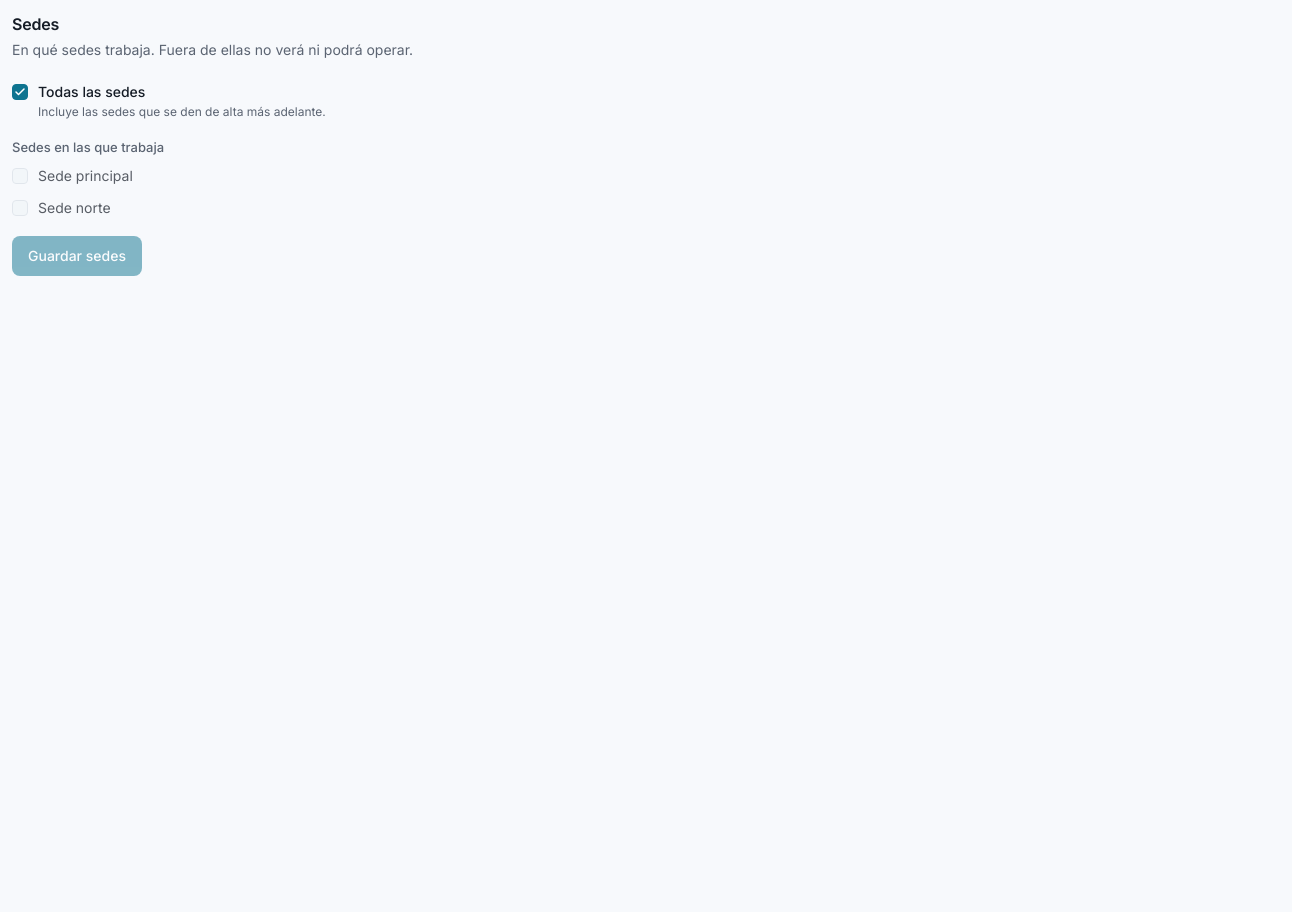
Scenario: StaffLocationsCard (DX-089) › al acotarlo a una sede guarda solo esa y avisa de cuándo se aplica
Step 1. Click the checkbox labelled "Todas las sedes" → (20,92), box [12,84,28,100]
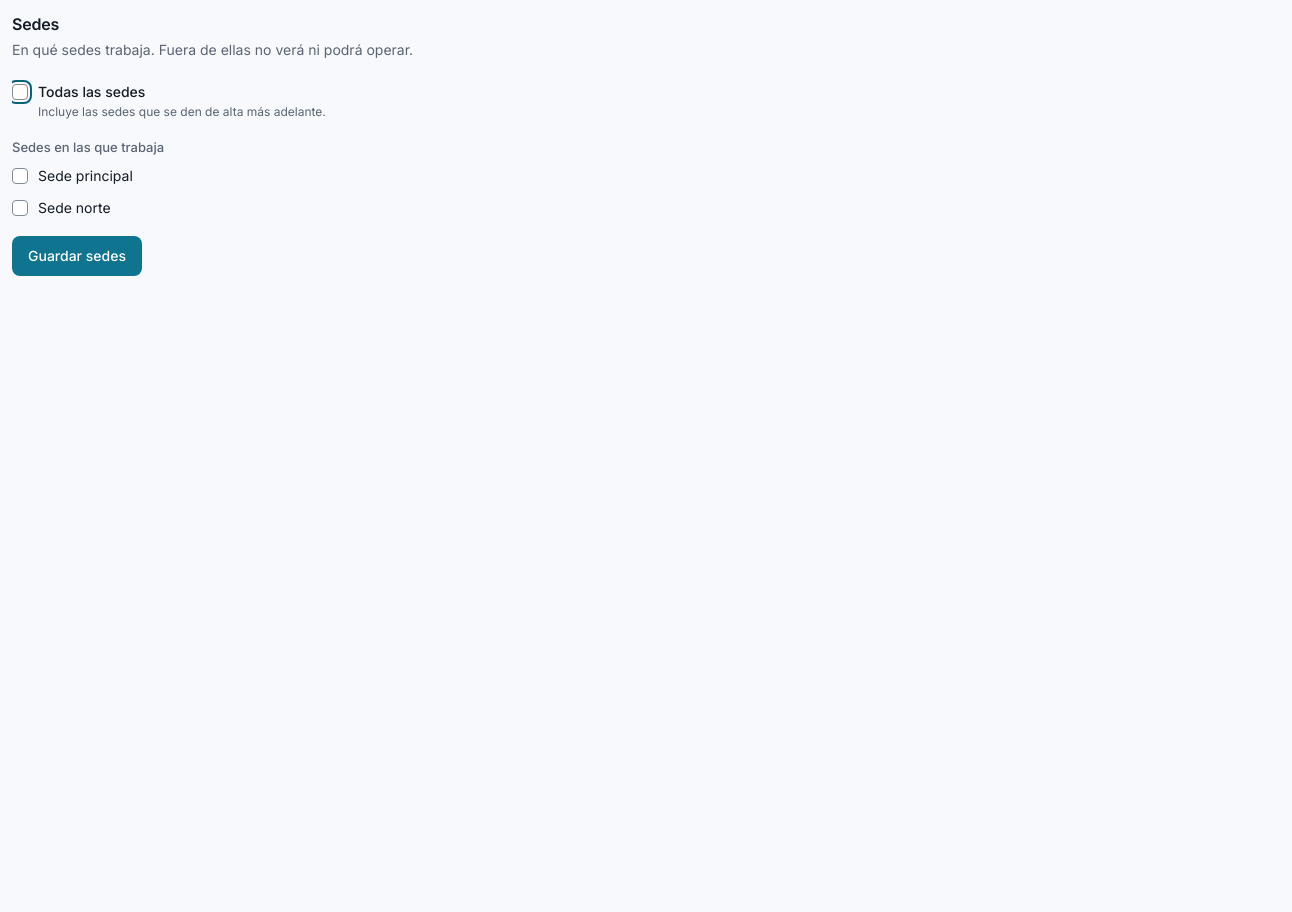
Check: the checkbox labelled "Sede norte" is enabled
Step 2. Click the checkbox labelled "Sede norte" → (20,208), box [12,200,28,216]
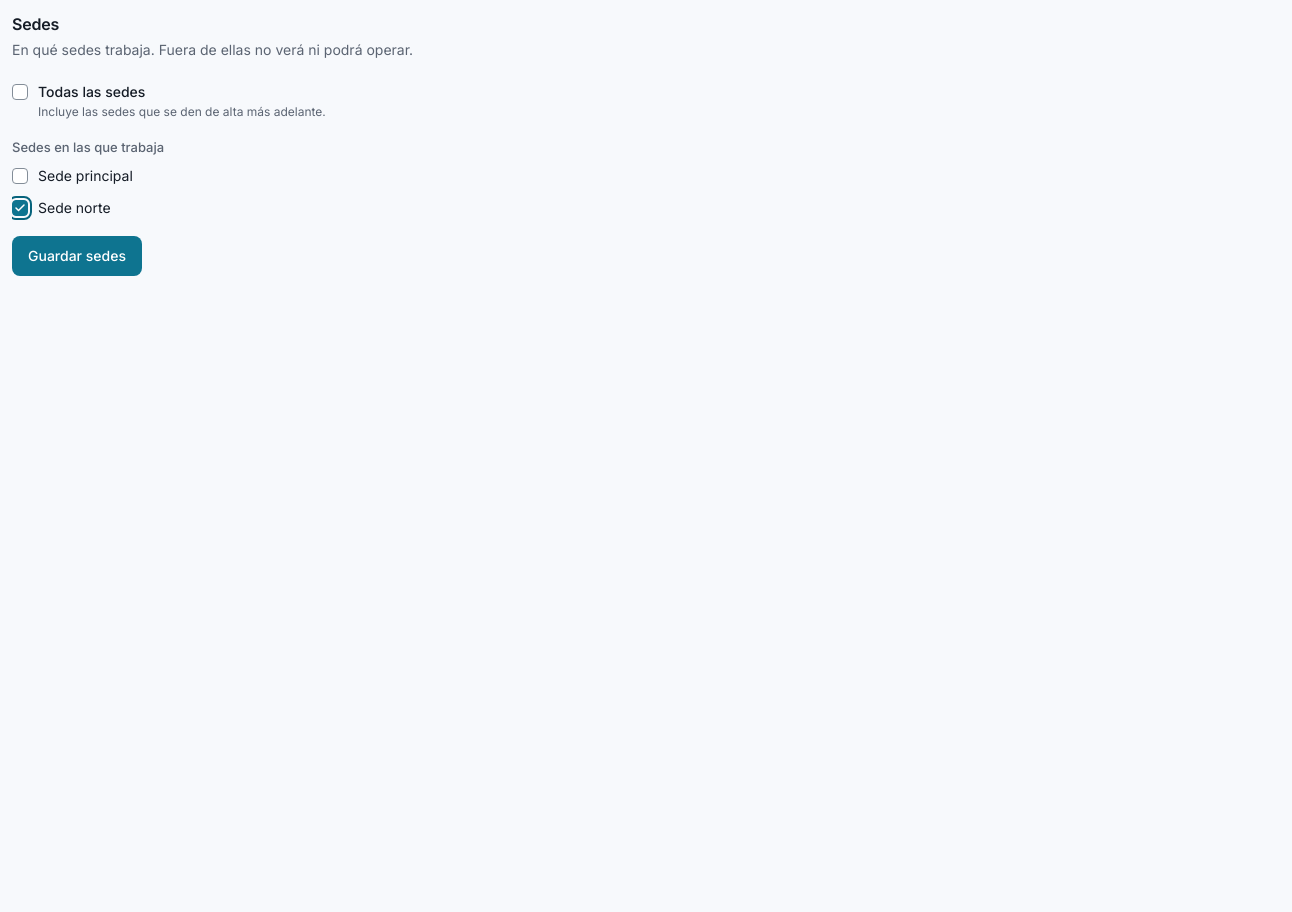
Step 3. Click the button "Guardar sedes" → (77,256), box [12,236,142,276]
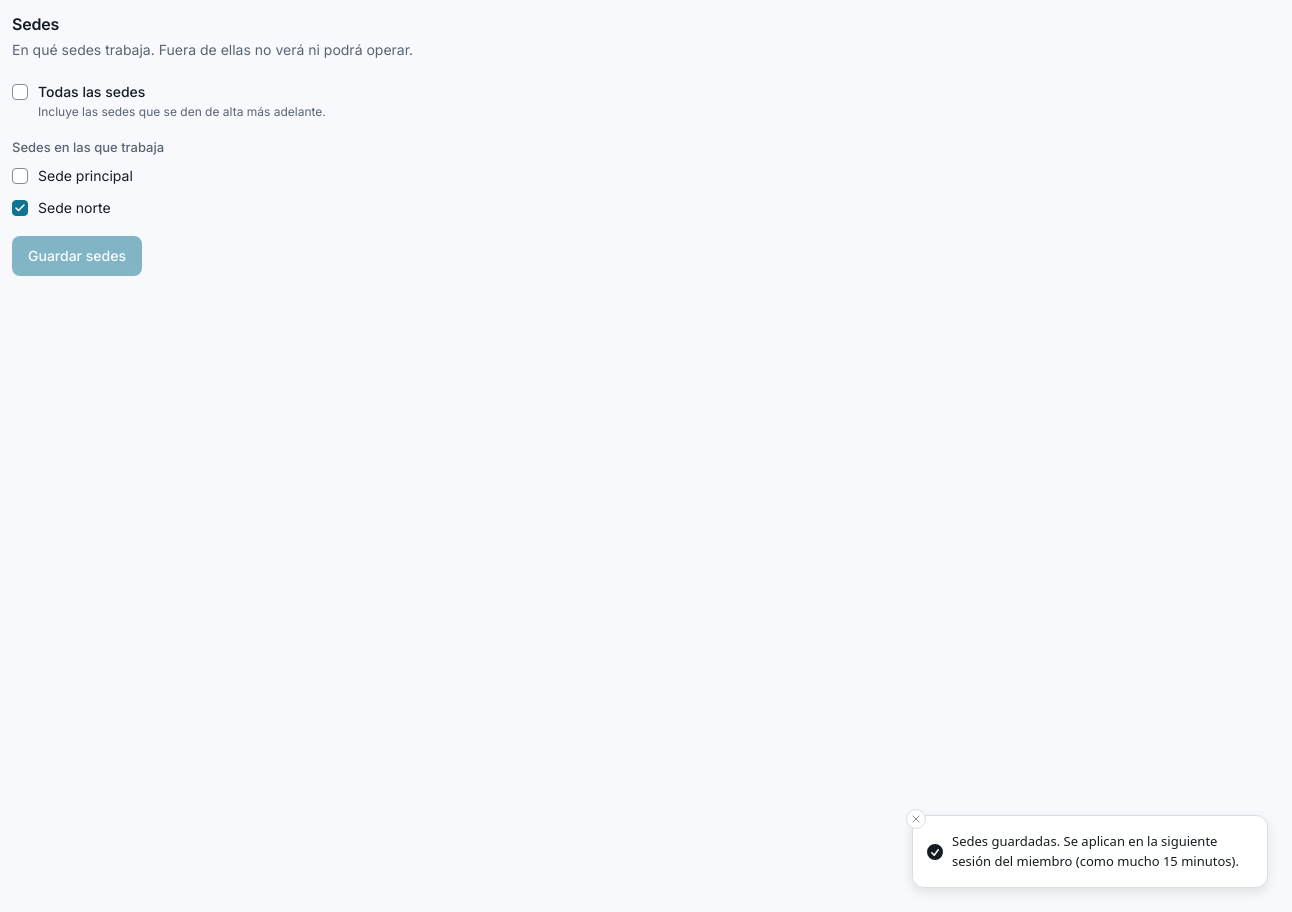
Check: the text "Sedes guardadas. Se aplican en la siguiente sesión del miembro (como mucho 15 minutos)." is shown, box [952,832,1239,870]
